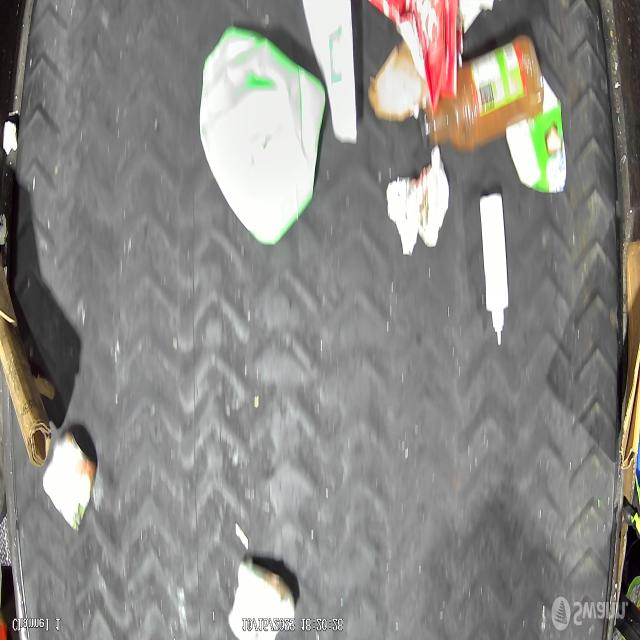can: (228, 555, 296, 640), (42, 428, 97, 532)
milk_jug: (198, 22, 329, 246)
